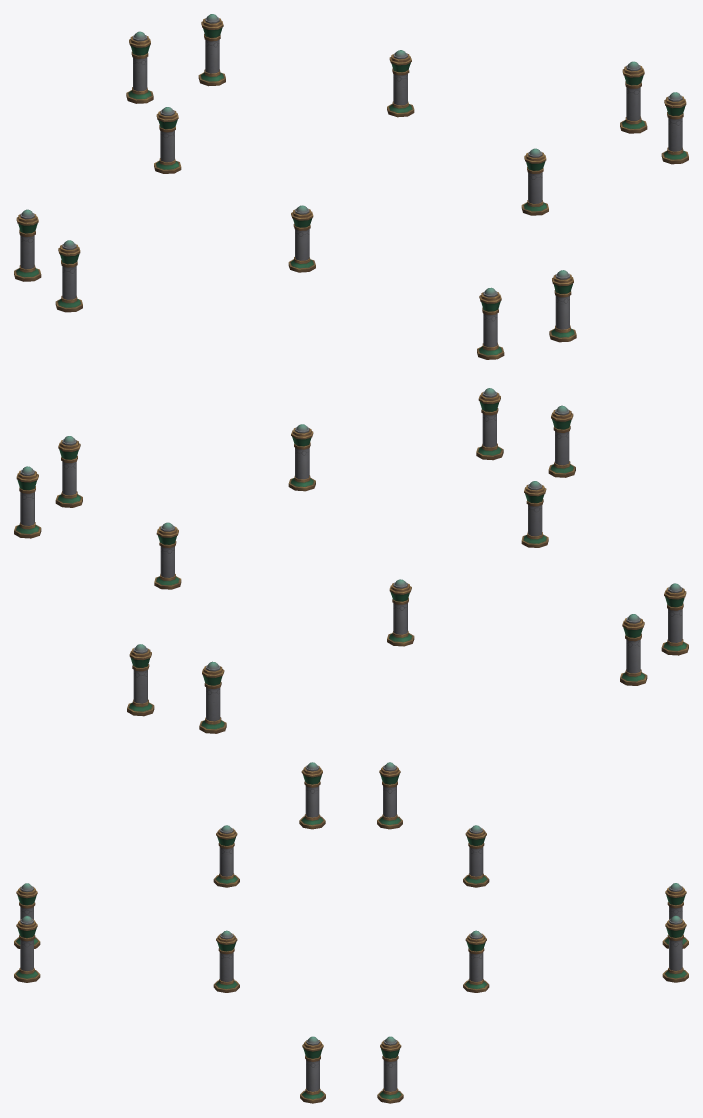
Rendered from scene_feicuizhita_tanei01_1.FBX.
The picture shows the model from 3 angles, top to bottom: view 1: azimuth 30°, elevation 25°; view 2: azimuth 150°, elevation 25°; view 3: azimuth 270°, elevation 25°; orthographic projection. The views are drawn at different scales.
Visible parts, largest first — view 1: scene_feicuizhita_tanei01_1; view 2: scene_feicuizhita_tanei01_1; view 3: scene_feicuizhita_tanei01_1.
Part boxes in pixels (box(x1,y1,x2,y2)): scene_feicuizhita_tanei01_1: box(14, 14, 688, 359); scene_feicuizhita_tanei01_1: box(14, 388, 688, 733); scene_feicuizhita_tanei01_1: box(14, 762, 688, 1103).
Bounding box in the file's own units: 3467 × 468 × 3467.
